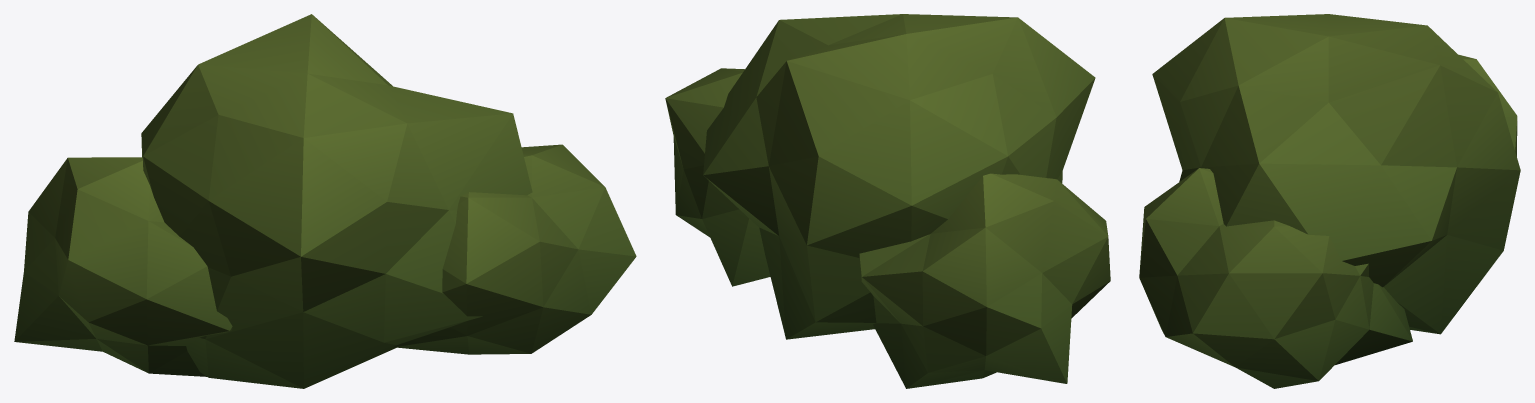
The model's file is arbusto-cosmetico.glb.
3 renders of one model, left to right at view 1: azimuth 30°, elevation 25°; view 2: azimuth 150°, elevation 25°; view 3: azimuth 270°, elevation 25°, orthographic. The views are drawn at different scales.
Visible parts, largest first — view 1: arbusto-cosmetico; view 2: arbusto-cosmetico; view 3: arbusto-cosmetico.
Boxes of the visible parts, x1=… form: arbusto-cosmetico: x1=14, y1=14, x2=636, y2=388; arbusto-cosmetico: x1=665, y1=14, x2=1110, y2=388; arbusto-cosmetico: x1=1139, y1=14, x2=1520, y2=388.
Size of the model in its own units: 1.48 by 0.8555 by 1.05.
